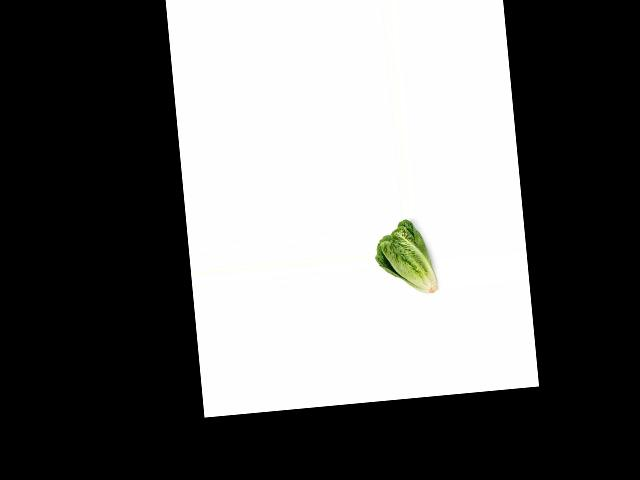lettuce: (372, 217, 439, 299)
